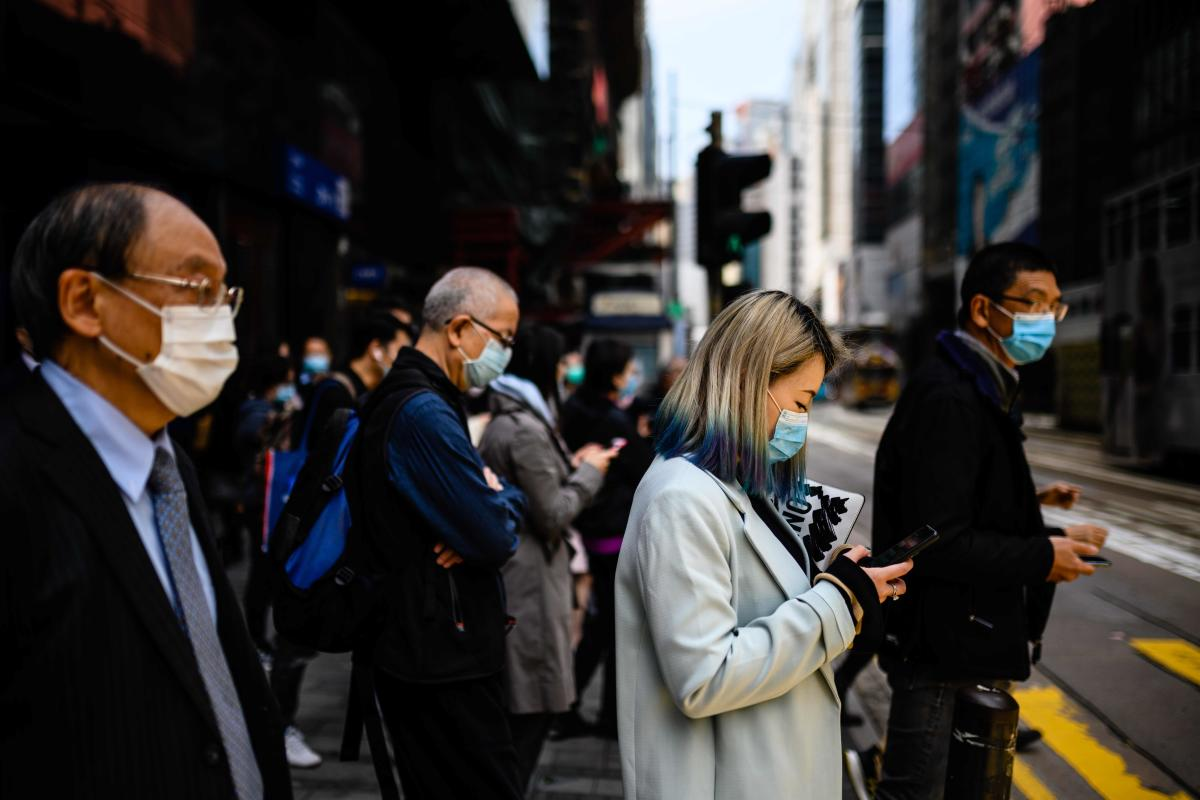with_mask: (126, 267, 247, 404), (765, 367, 807, 467), (461, 308, 516, 383), (1010, 287, 1059, 350)
